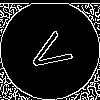V: (25, 25, 82, 78)
